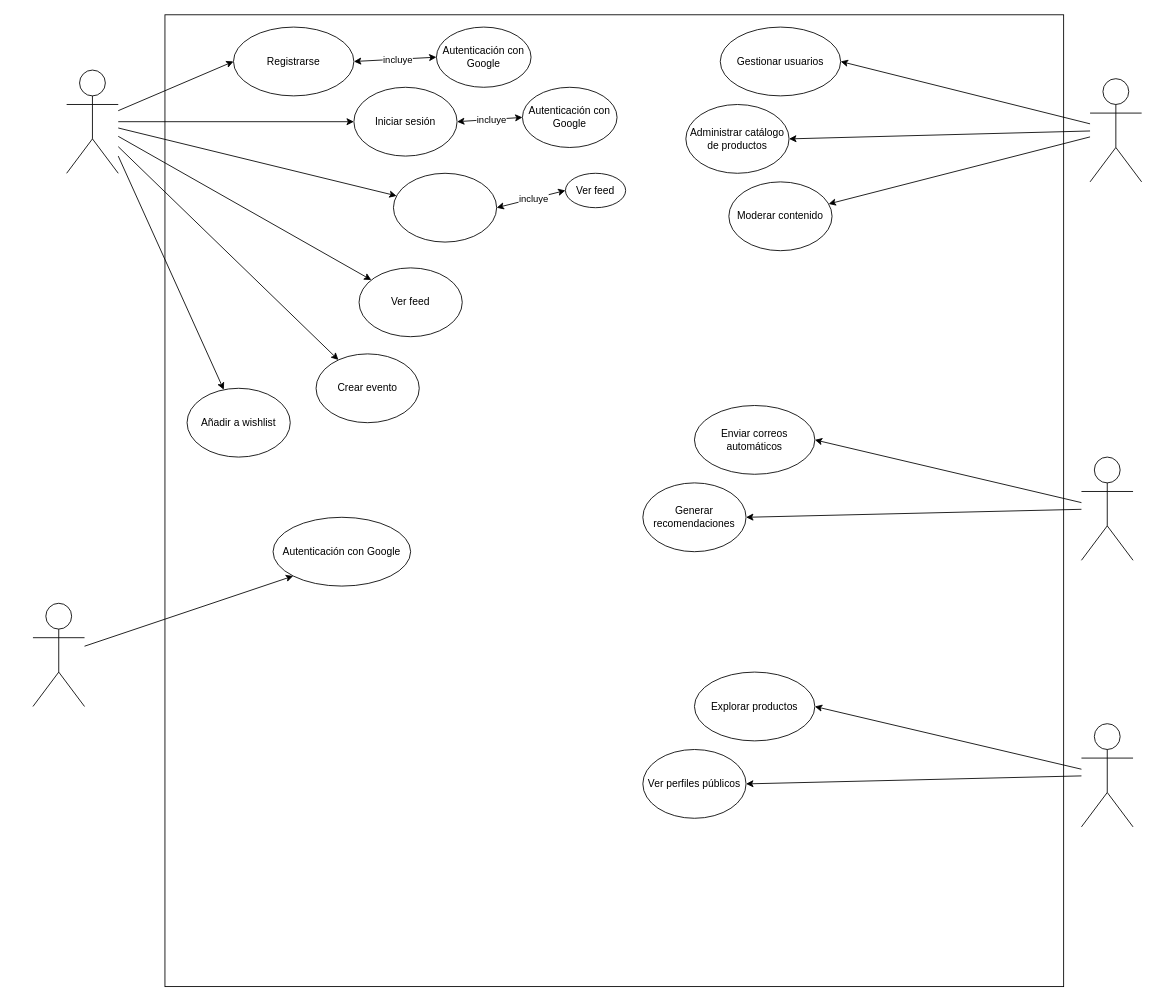
The diagram is 1163 pixels wide and 1002 high, and some of its shapes have lost their labels. The centre of each missing label's shape, as x and y in pixels:
"Administrador" goes at point 1115,130.
"Proveedor externo" goes at point 58,654.
"Publicar post" goes at point 445,207.
"Sistema" goes at point 1107,508.
"Usuario Final" goes at point 92,121.
"Visitante" goes at point 1107,775.
